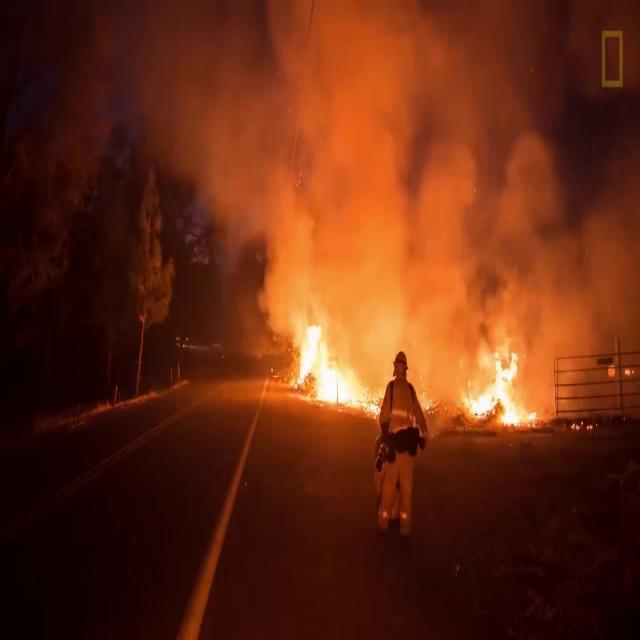Fire: (291, 326, 381, 420), (461, 352, 538, 430)
